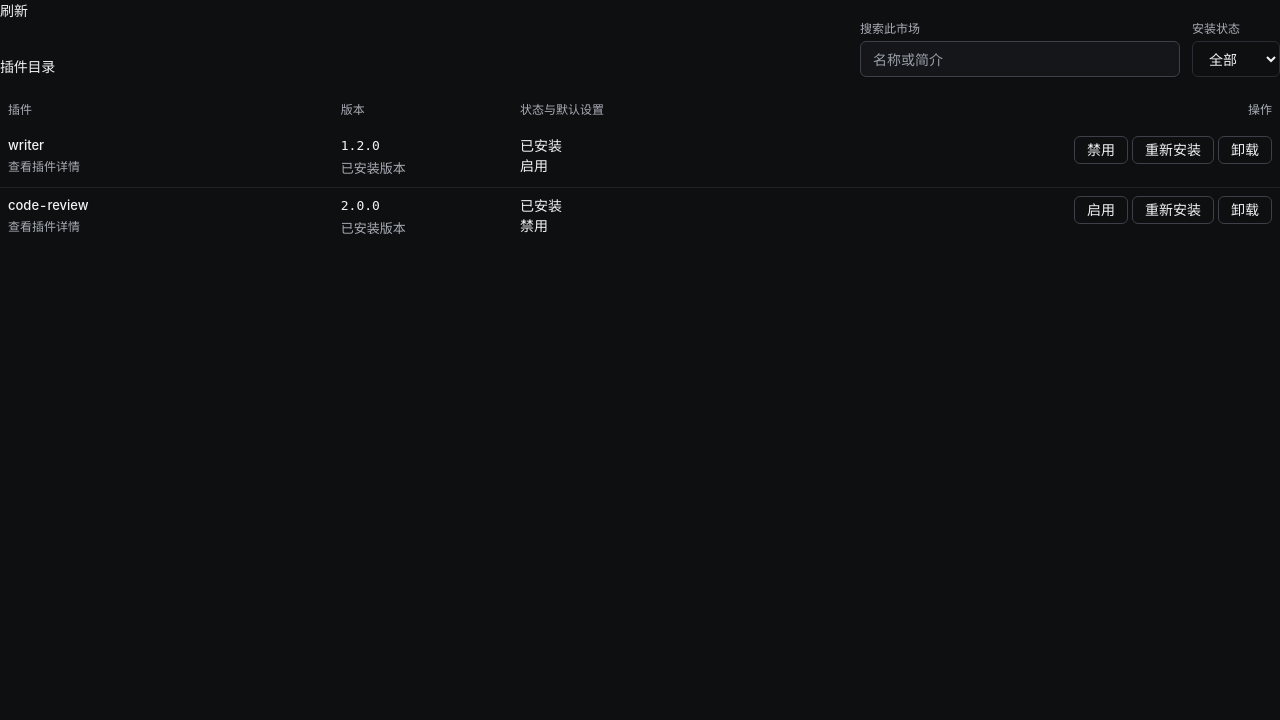
Codex plugin management › refreshes conflicts and requires a new user action instead of retrying the write
What coordinates should you click on to do the following:
click the button with aria-label "禁用 writer（personal）"
I would click on:
 (1101, 150)
Its box is [1074,136,1128,164].
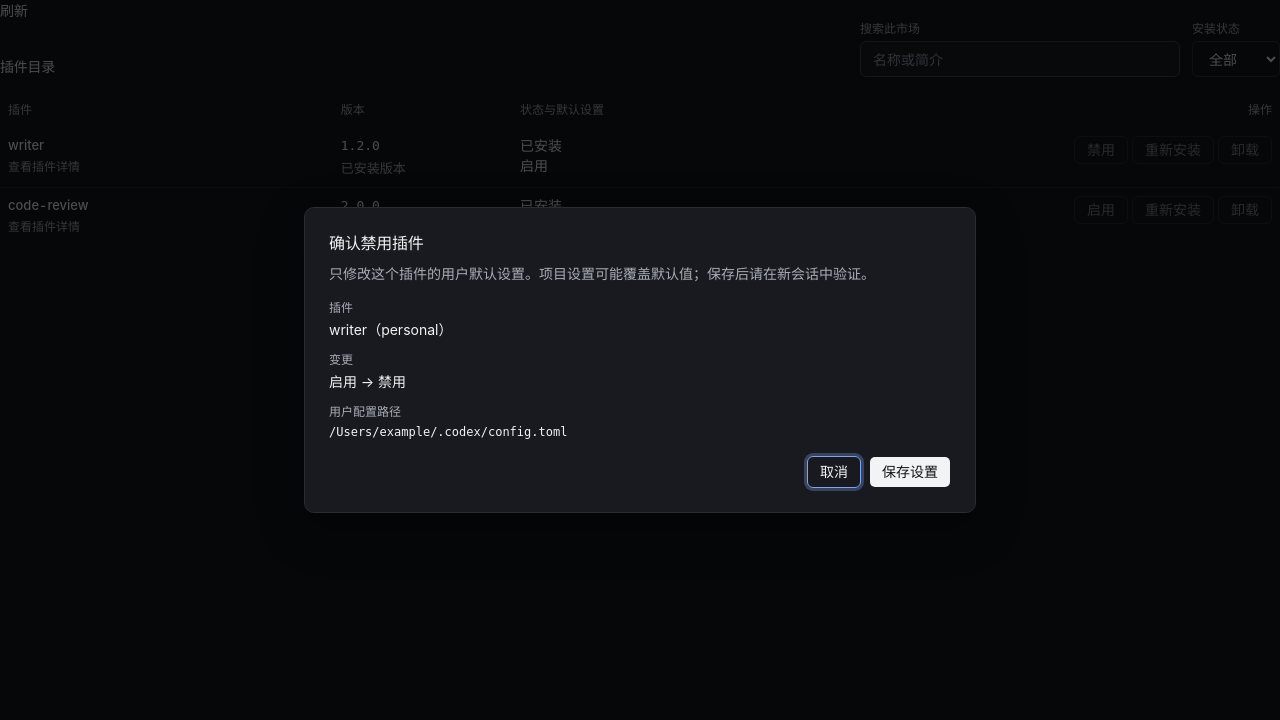
What coordinates should you click on to do the following:
click the button "保存设置"
I would click on:
 (910, 472)
Its box is [869,456,951,488].
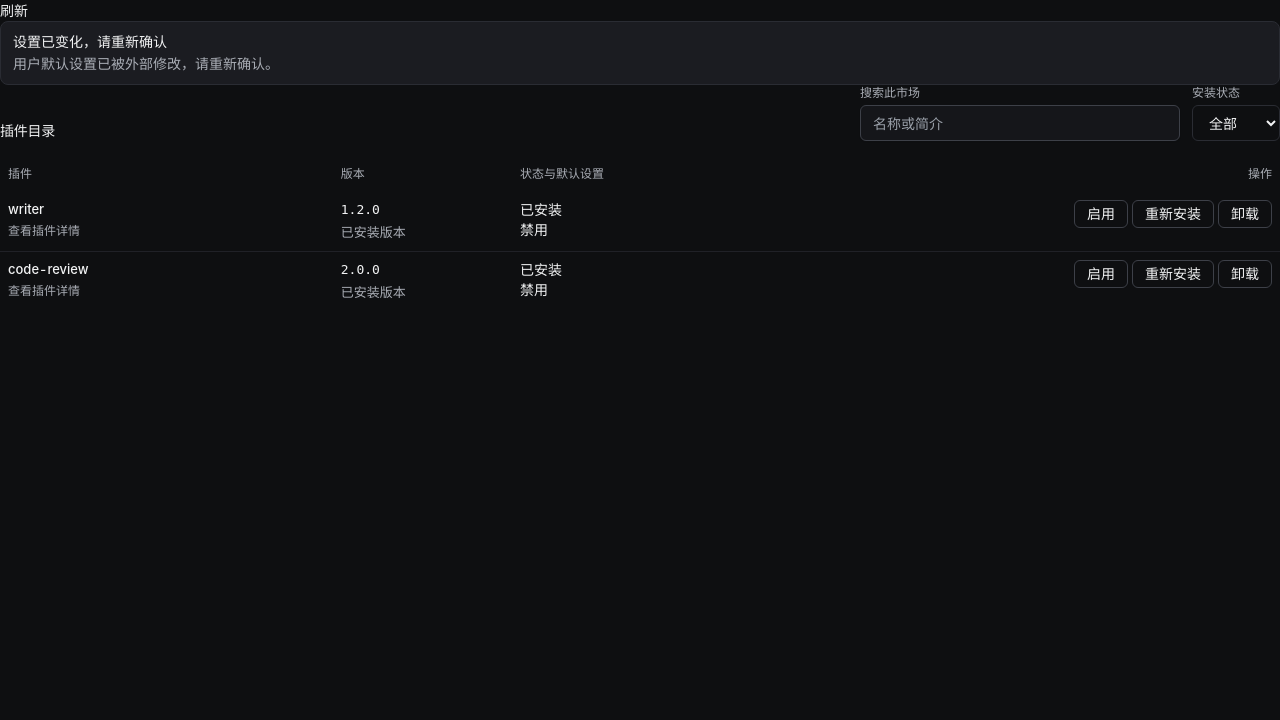
Expected: the button with aria-label "启用 writer（personal）" is shown, [1074,200,1128,228]
Expected: the text "设置已变化，请重新确认" is shown, [13,33,167,50]
Expected: the dialog is gone
